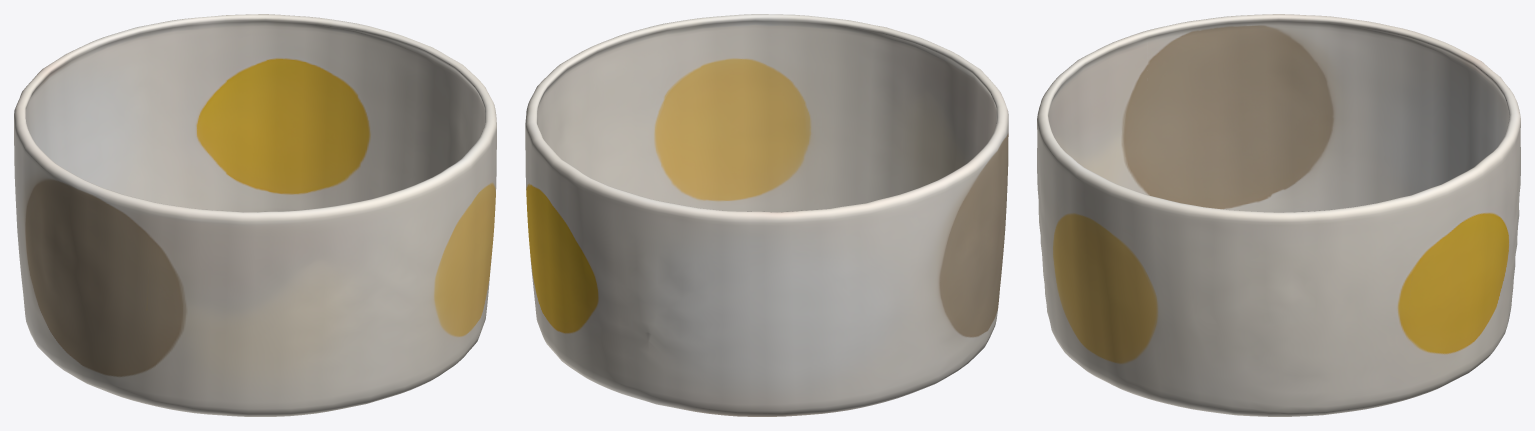
3 renders of one model, left to right at view 1: azimuth 30°, elevation 25°; view 2: azimuth 150°, elevation 25°; view 3: azimuth 270°, elevation 25°, orthographic.
Parts seen in each view (by area): view 1: model; view 2: model; view 3: model.
Part boxes in pixels (x1,y1,x2,y2): model: (14, 14, 496, 416); model: (525, 14, 1008, 416); model: (1037, 14, 1520, 416).
Bounding box in the file's own units: 1.86 × 1 × 1.87.
Materials: 1 (1 with a texture image).
